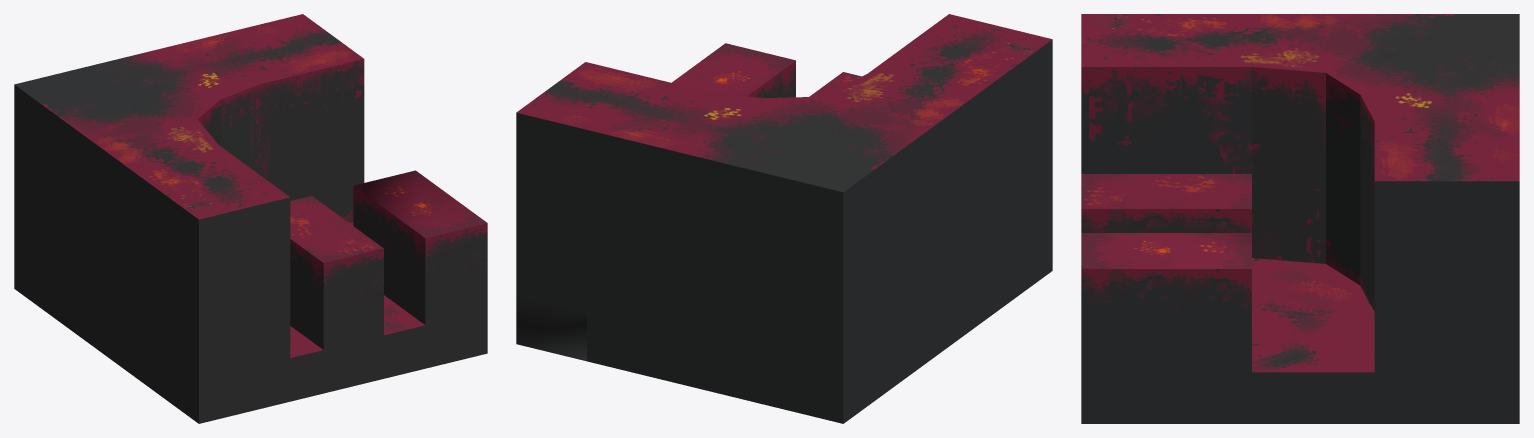
The model's file is level1p3.fbx.
The picture shows the model from 3 angles, left to right: view 1: azimuth 30°, elevation 25°; view 2: azimuth 150°, elevation 25°; view 3: azimuth 270°, elevation 25°; orthographic projection. The views are drawn at different scales.
Parts seen in each view (by area): view 1: BoxBrush; view 2: BoxBrush; view 3: BoxBrush.
Part boxes in pixels (bbox=[...]): BoxBrush: bbox=[14, 14, 487, 423]; BoxBrush: bbox=[516, 14, 1052, 423]; BoxBrush: bbox=[1081, 14, 1519, 423].
Bounding box in the file's own units: 13900 × 9400 × 15400.
1 material, 1 textured.
